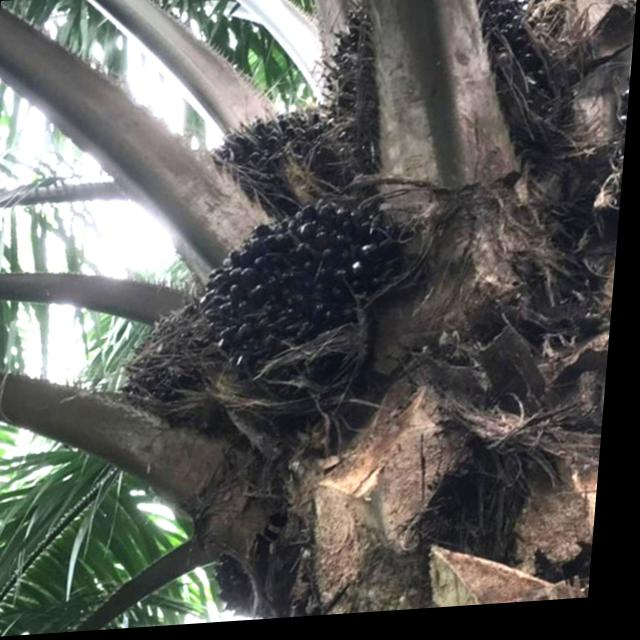almost: (122, 195, 394, 423), (314, 0, 569, 174), (203, 105, 366, 210)
